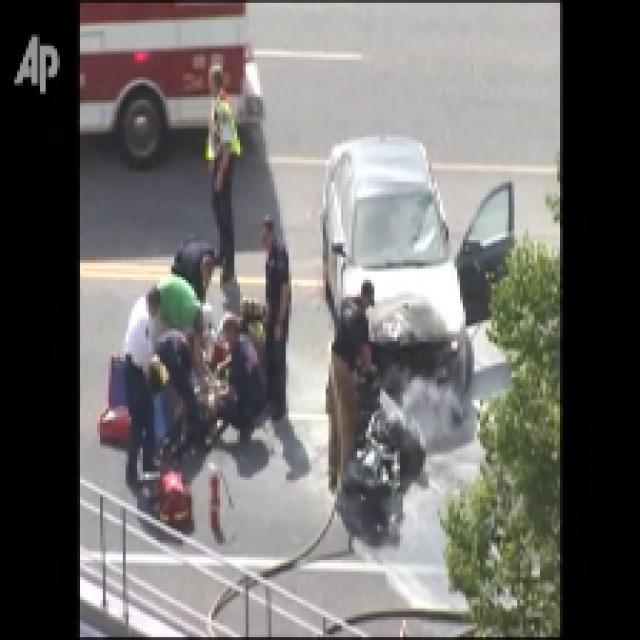Smoke: (397, 369, 468, 446)
